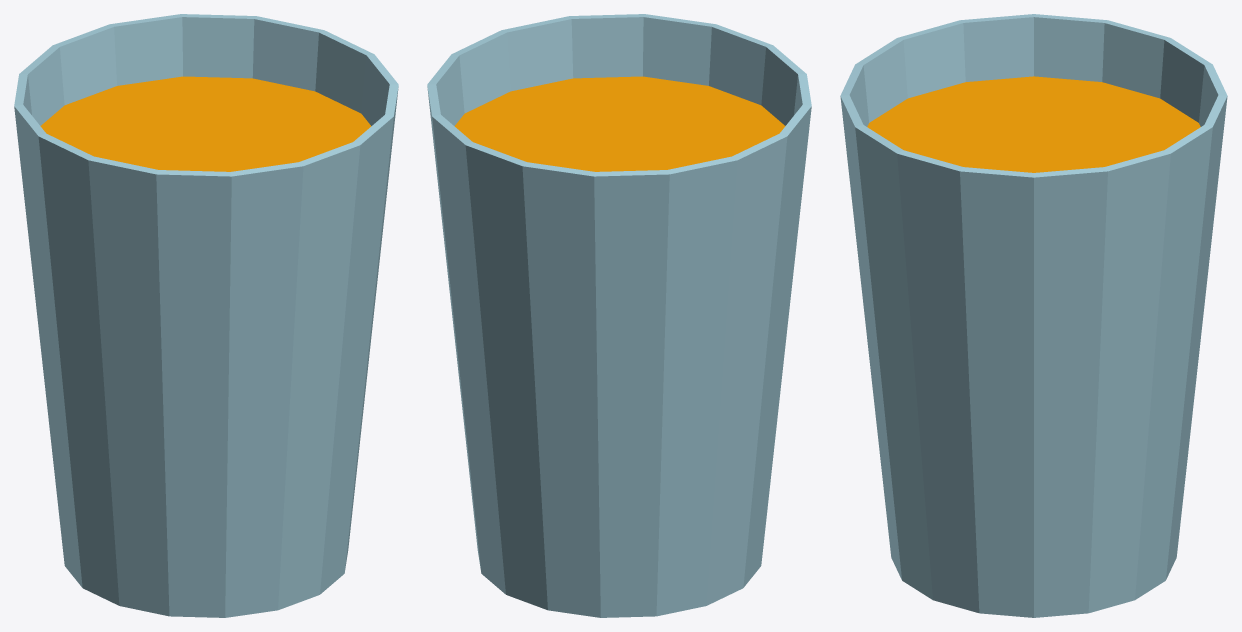
The model's file is Vaso01_Jugo_Naranja.fbx.
3 views of the same model, side by side, from view 1: azimuth 30°, elevation 25°; view 2: azimuth 150°, elevation 25°; view 3: azimuth 270°, elevation 25° (orthographic).
Visible parts, largest first — view 1: Vaso01_Jugo_Naranja; view 2: Vaso01_Jugo_Naranja; view 3: Vaso01_Jugo_Naranja.
Part boxes in pixels (box(x1,y1,x2,y2)): Vaso01_Jugo_Naranja: box(14, 14, 398, 617); Vaso01_Jugo_Naranja: box(427, 14, 811, 617); Vaso01_Jugo_Naranja: box(840, 14, 1227, 617).
Bounding box in the file's own units: 10.57 × 13.93 × 10.57.
